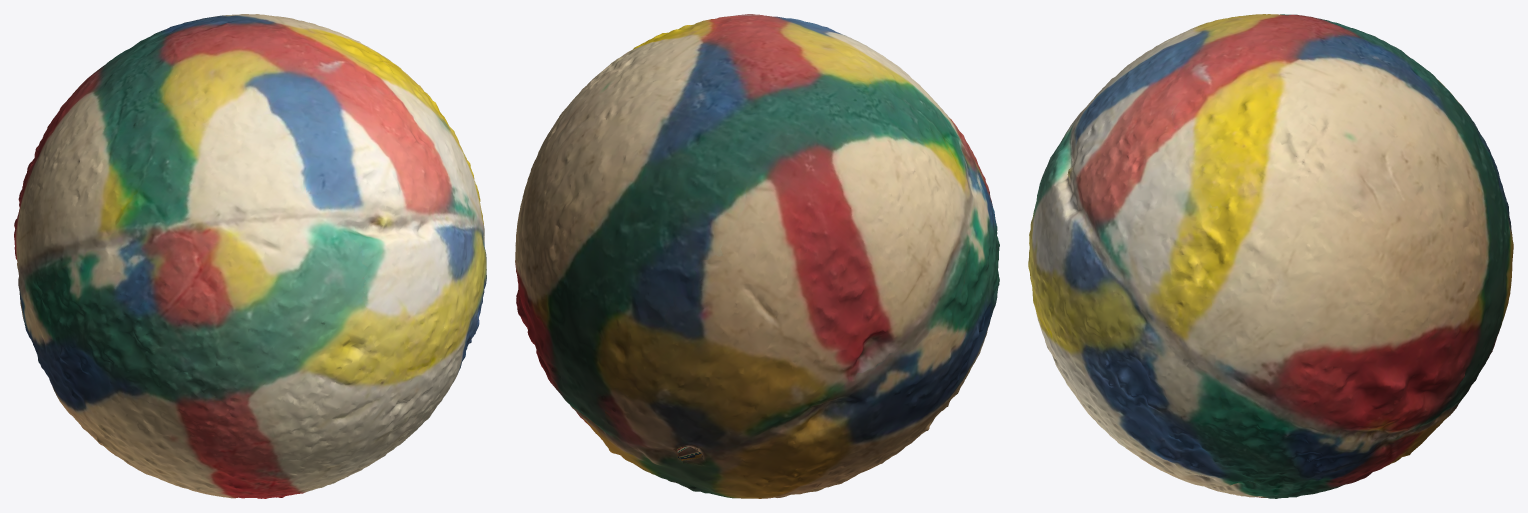
3 views of the same model, side by side, from view 1: azimuth 30°, elevation 25°; view 2: azimuth 150°, elevation 25°; view 3: azimuth 270°, elevation 25° (orthographic).
Visible parts, largest first — view 1: Test_05; view 2: Test_05; view 3: Test_05.
Boxes of the visible parts, x1,y1,x2,y2 form: Test_05: (14, 14, 486, 498); Test_05: (515, 14, 999, 498); Test_05: (1028, 14, 1513, 498).
Bounding box in the file's own units: 2.01 × 2.04 × 2.03.
1 material, 1 textured.
